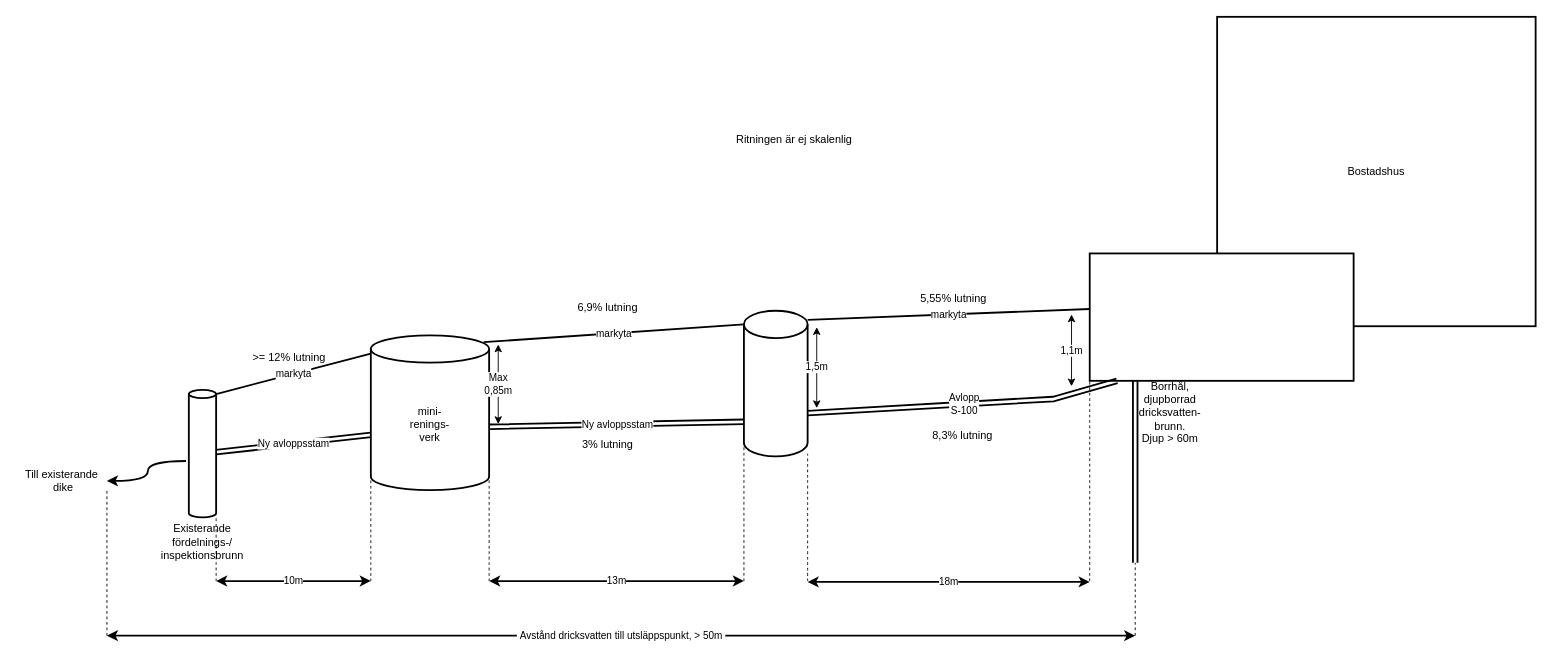
This 1552x660 diagram has some shape labels left out. Each missing label, with the box of its shape:
Existerande 3-kammar- brunn: (743, 309, 808, 457)
pumphus och källare: (1088, 252, 1354, 381)
